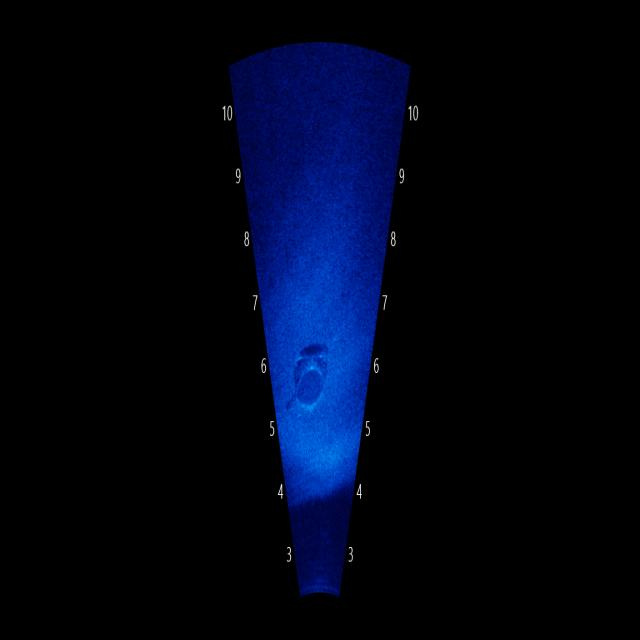circle: (288, 324, 342, 430)
